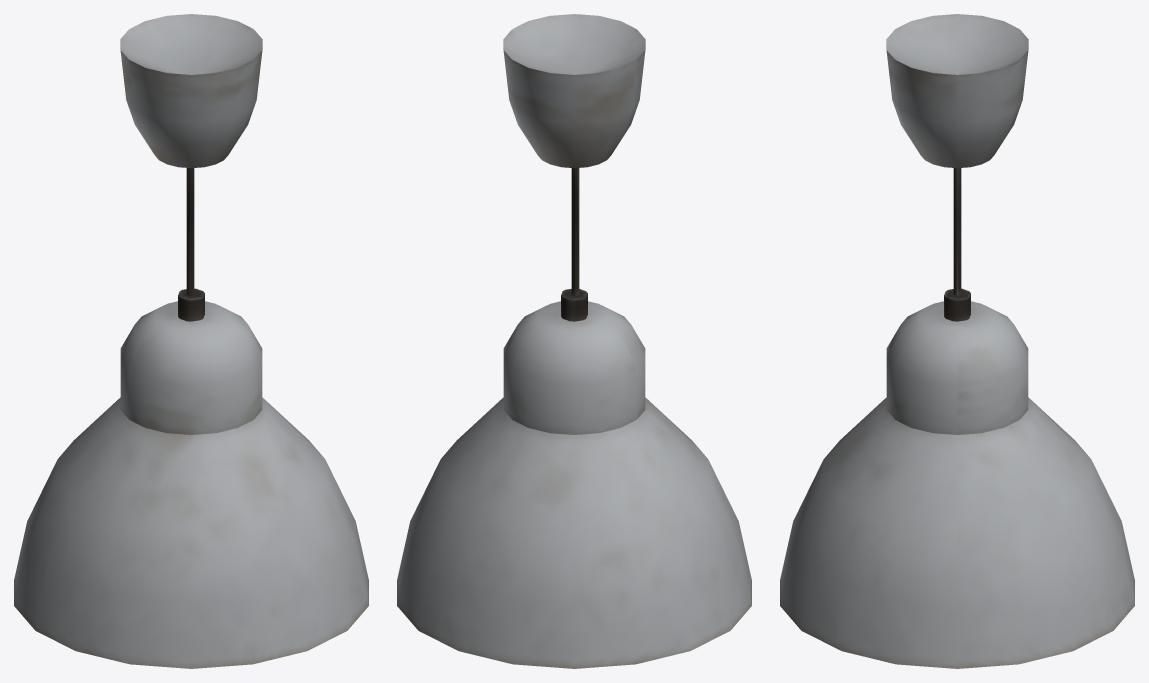
The model's file is Lamp01.FBX.
The picture shows the model from 3 angles, left to right: view 1: azimuth 30°, elevation 25°; view 2: azimuth 150°, elevation 25°; view 3: azimuth 270°, elevation 25°; orthographic projection.
Visible parts, largest first — view 1: Lamp01; view 2: Lamp01; view 3: Lamp01.
Part boxes in pixels (x1,y1,x2,y2): Lamp01: [14, 14, 368, 668]; Lamp01: [397, 14, 751, 668]; Lamp01: [780, 14, 1134, 668].
Bounding box in the file's own units: 36.57 × 61.48 × 36.01.
